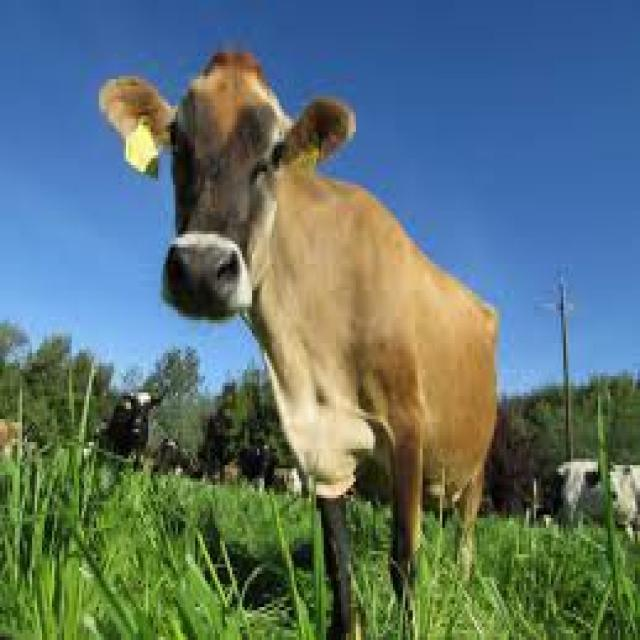cow: (99, 49, 497, 637)
